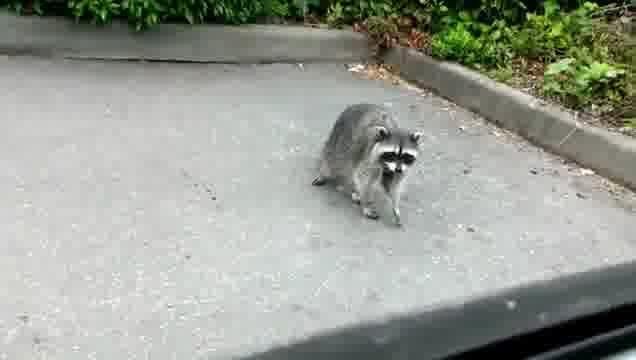raccoon: (312, 100, 422, 228)
